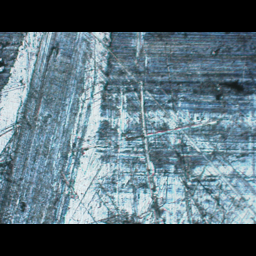d: (0, 84, 253, 223), (0, 32, 115, 223)
